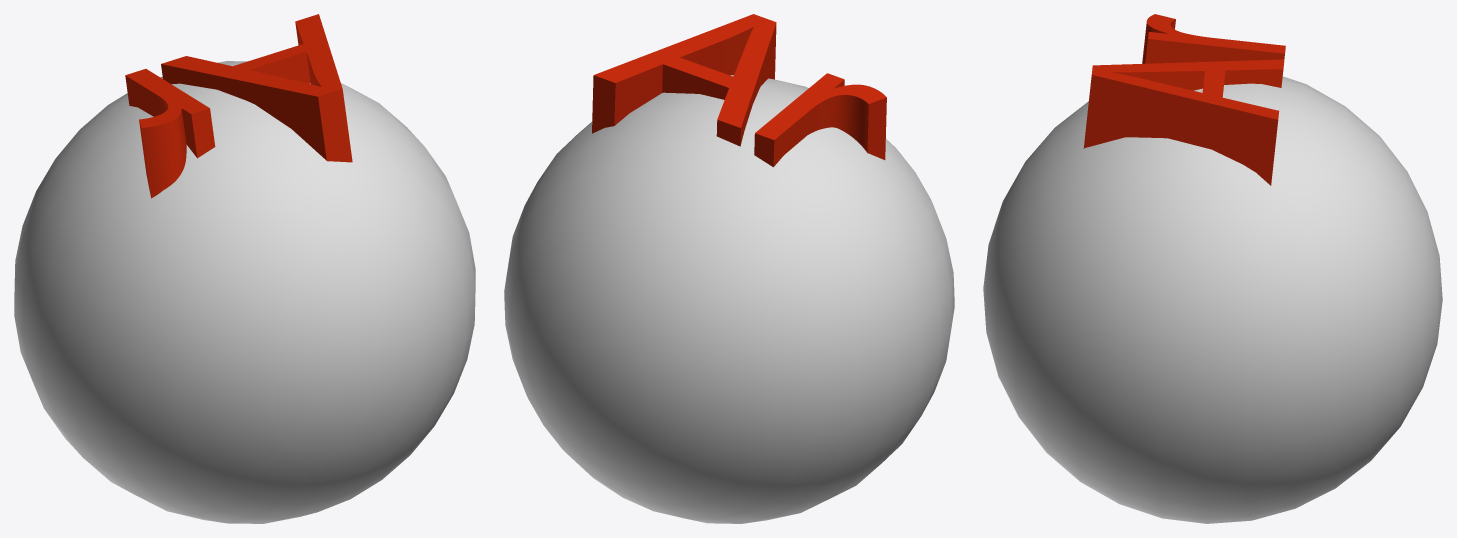
The picture shows the model from 3 angles, left to right: view 1: azimuth 30°, elevation 25°; view 2: azimuth 150°, elevation 25°; view 3: azimuth 270°, elevation 25°; orthographic projection. The views are drawn at different scales.
Visible parts, largest first — view 1: Ar; view 2: Ar; view 3: Ar.
Boxes of the visible parts, left/top/right/bottom form: Ar: left=14, top=14, right=475, bottom=523; Ar: left=504, top=14, right=954, bottom=523; Ar: left=983, top=14, right=1442, bottom=523.
Size of the model in its own units: 38.64 by 41.37 by 38.72.
